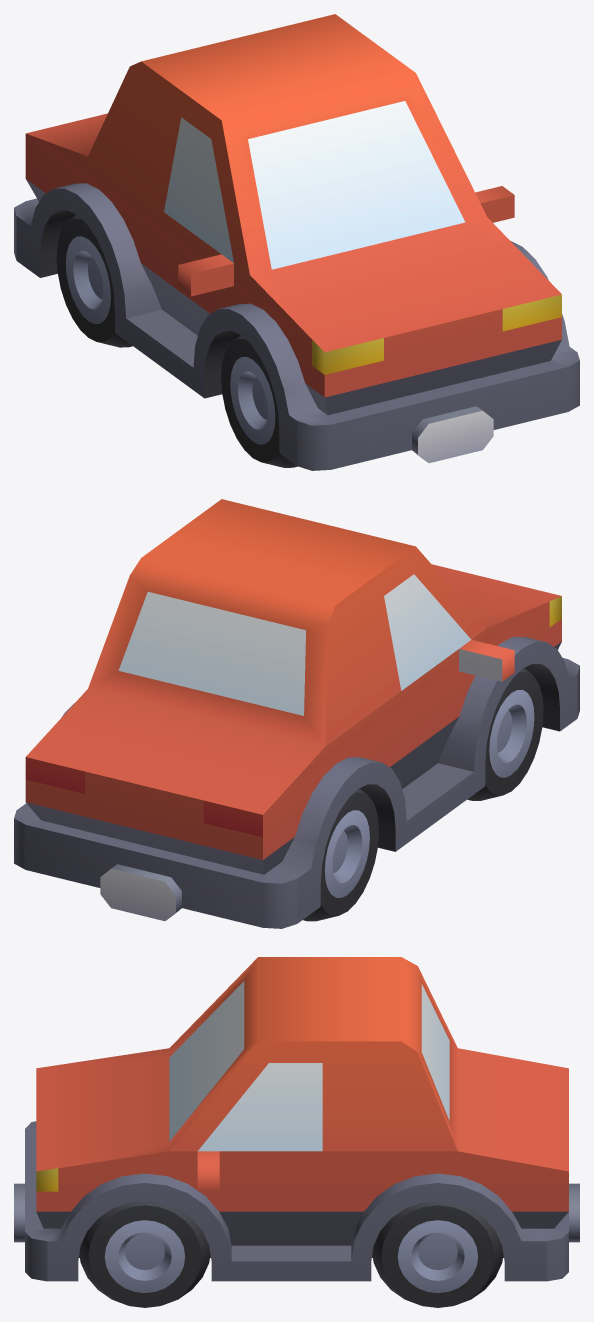
Rendered from k_car.glb.
3 views of the same model, one above another, from view 1: azimuth 30°, elevation 25°; view 2: azimuth 150°, elevation 25°; view 3: azimuth 270°, elevation 25° (orthographic). The views are drawn at different scales.
Parts seen in each view (by area): view 1: wheel-front-right; view 2: wheel-front-right; view 3: wheel-front-right.
Part boxes in pixels (<box>): wheel-front-right: <box>14,14,579,470</box>; wheel-front-right: <box>14,499,579,928</box>; wheel-front-right: <box>14,957,579,1307</box>.
Bounding box in the file's own units: 1.5 × 1.3 × 2.55.
Materials: 1 (1 with a texture image).
